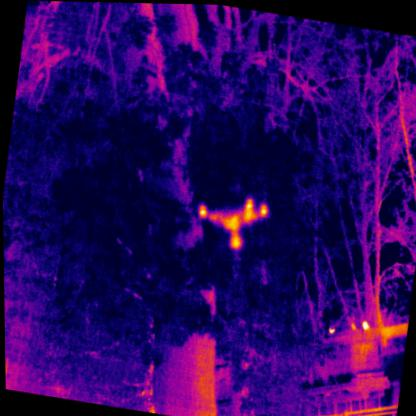drone: (190, 187, 269, 250)
